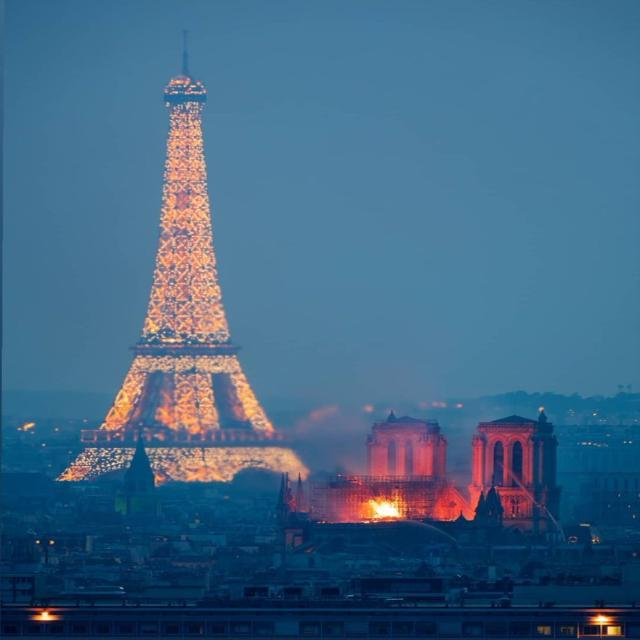Fire: (358, 494, 420, 526)
Smoke: (298, 380, 520, 494)
